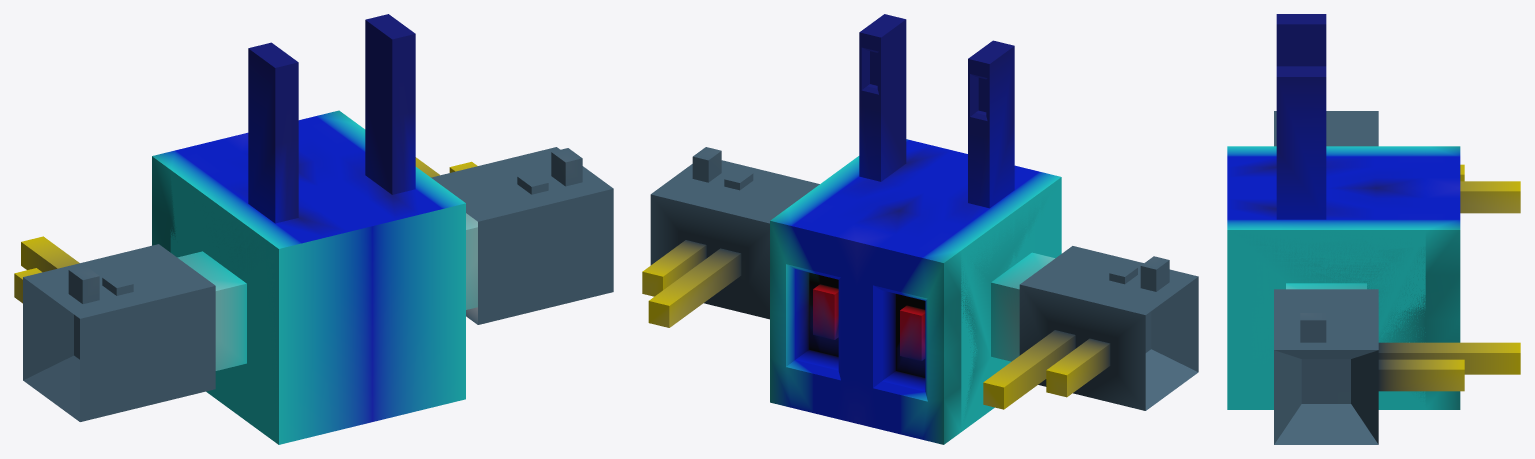
File: enemy1.fbx
The picture shows the model from 3 angles, left to right: view 1: azimuth 30°, elevation 25°; view 2: azimuth 150°, elevation 25°; view 3: azimuth 270°, elevation 25°; orthographic projection. The views are drawn at different scales.
Parts seen in each view (by area): view 1: Cube; view 2: Cube; view 3: Cube.
Boxes of the visible parts, left/top/right/bottom form: Cube: left=14, top=14, right=613, bottom=444; Cube: left=642, top=14, right=1198, bottom=444; Cube: left=1227, top=14, right=1520, bottom=444.
Size of the model in its own units: 570 by 359 by 296.
